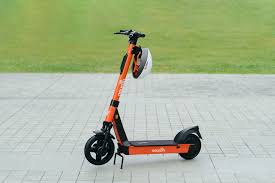kick_board: (86, 29, 203, 164)
kick_body: (127, 140, 179, 153)
kick_handler: (113, 29, 146, 43)
kick_neck: (108, 45, 133, 121)
kick_wheel: (84, 134, 115, 165), (180, 135, 201, 160)
